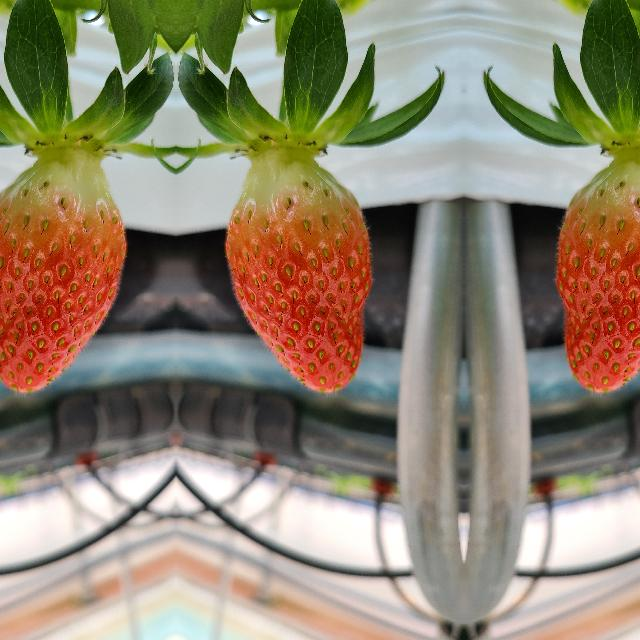Health_100: (222, 158, 374, 398), (0, 158, 128, 398), (552, 158, 640, 398)
